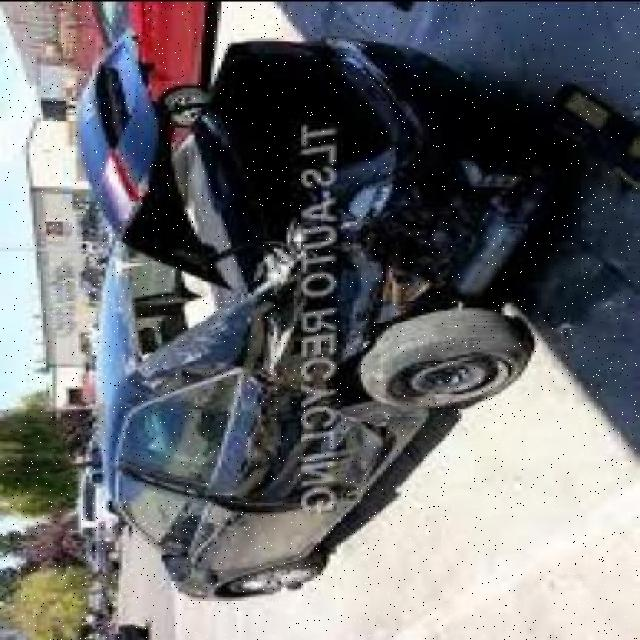damage: (113, 64, 526, 499)
